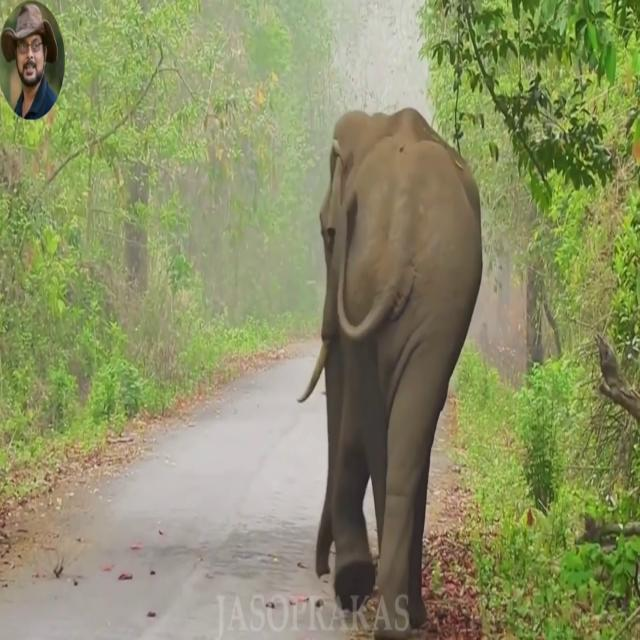Elephant: (296, 106, 484, 634)
